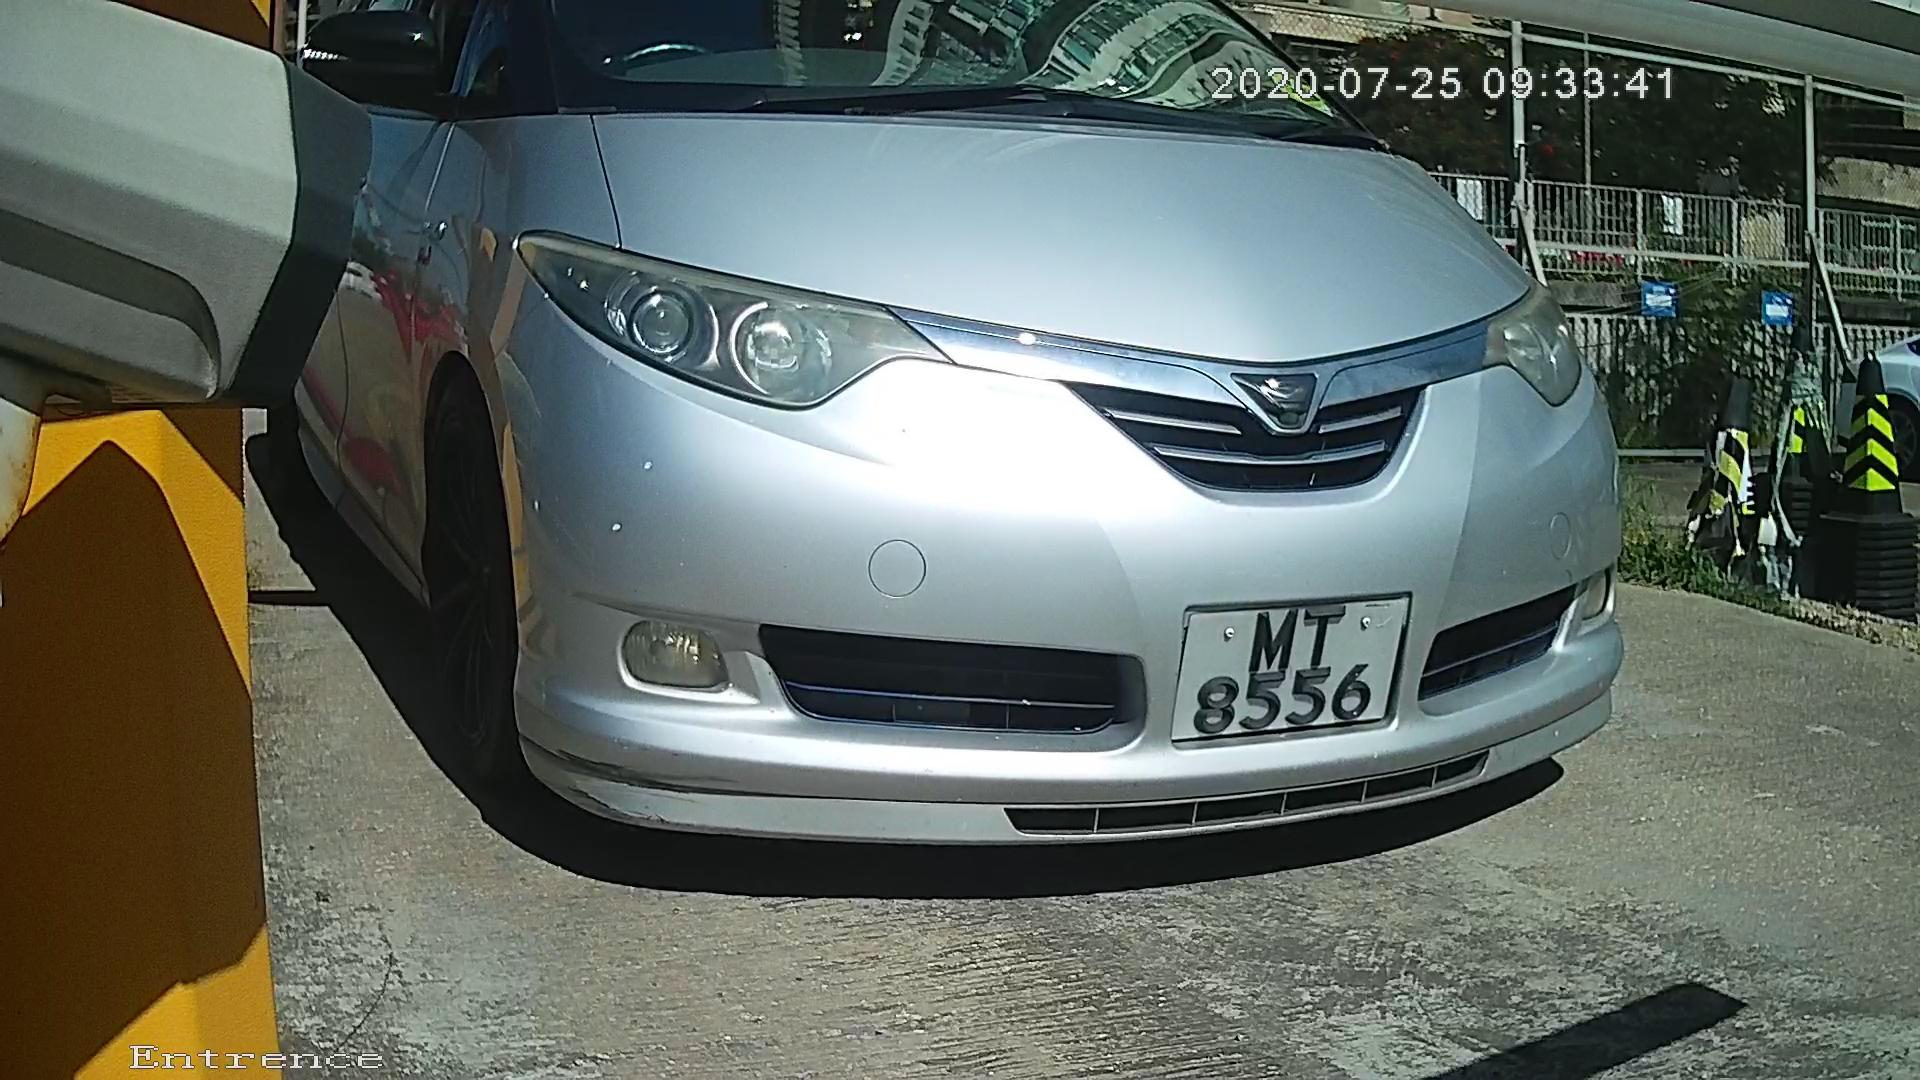Car: (189, 1, 1706, 946)
License Plate: (1158, 584, 1432, 762)
